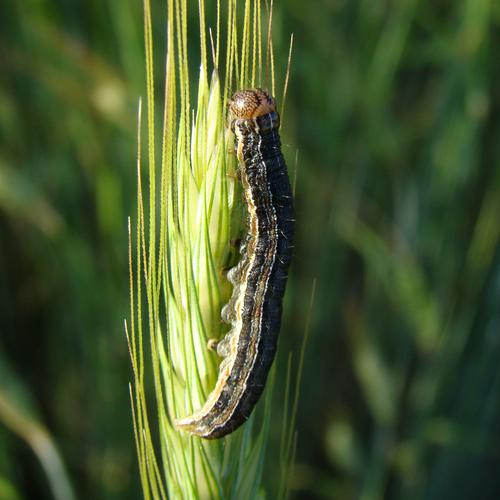Armyworm: (192, 67, 306, 450)
